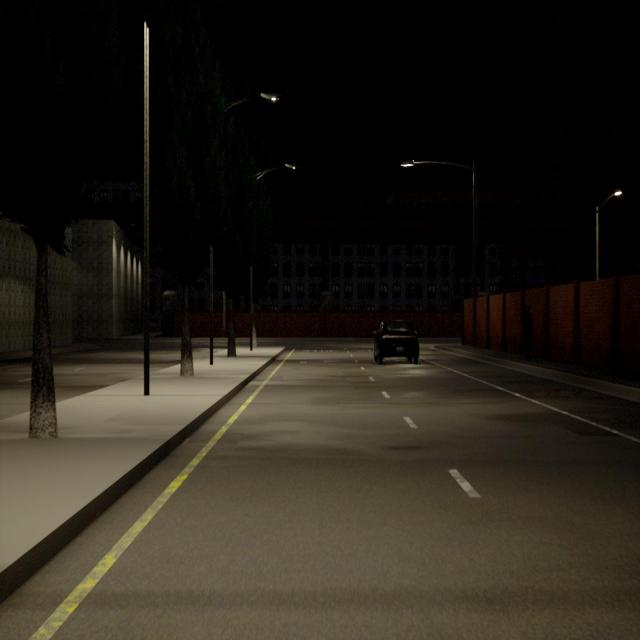Pedestrian: (520, 303, 532, 362)
Vehicle: (374, 321, 418, 364)
